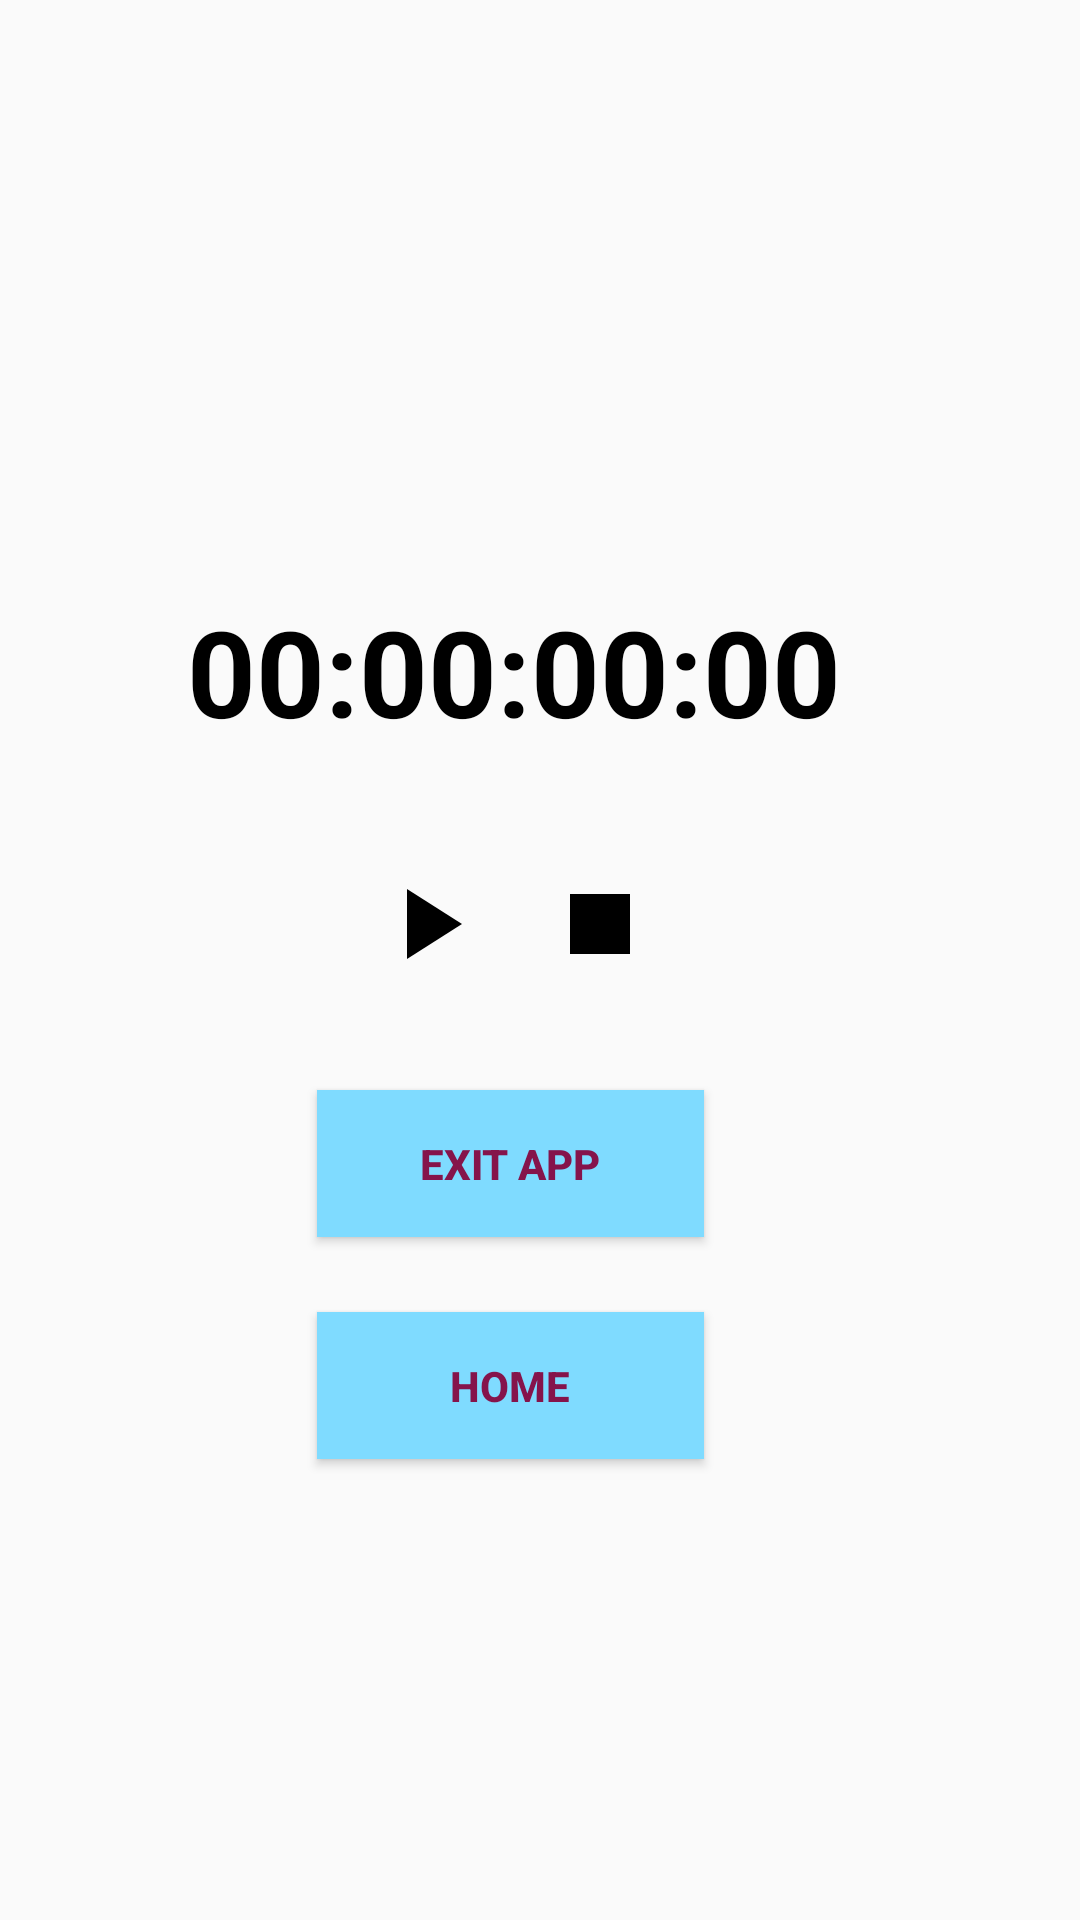

Screen size 1080×1920. Icon name, then its center in pixels as point (x, y):
play stopwatch: point (434, 924)
